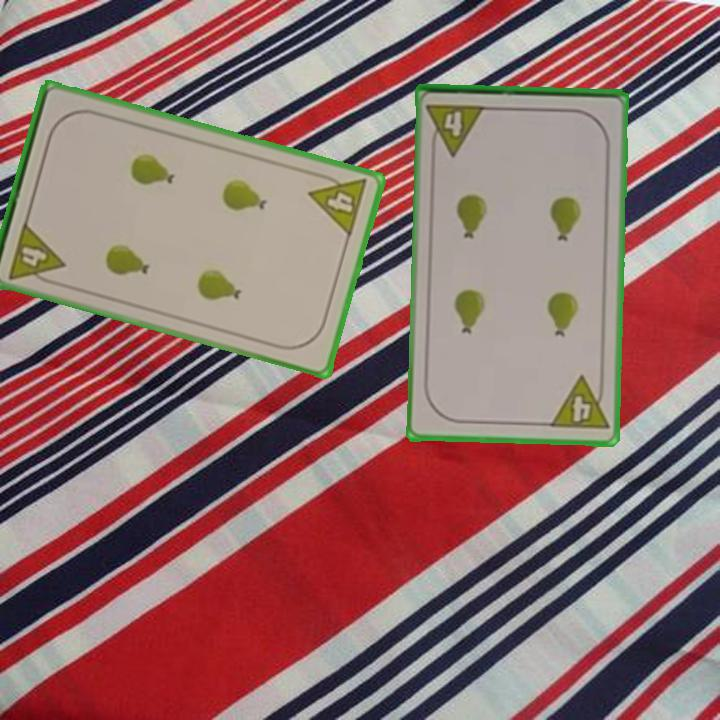4p: (305, 168, 371, 240), (5, 218, 68, 288), (546, 373, 611, 433), (423, 100, 488, 158)
